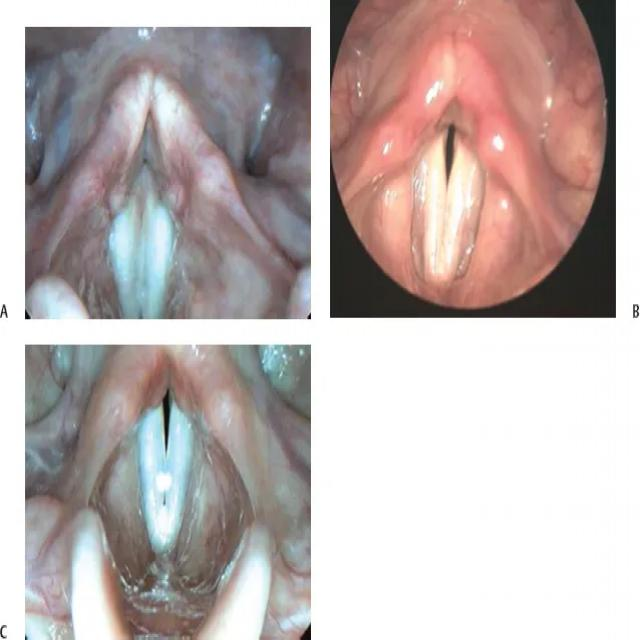arytenoid cartilagerotation: (48, 55, 244, 234), (362, 24, 535, 196), (73, 347, 266, 484)
epiglottisrotation: (62, 504, 279, 638)
larynxrotation: (406, 117, 489, 291), (103, 155, 185, 315), (130, 385, 200, 562)
